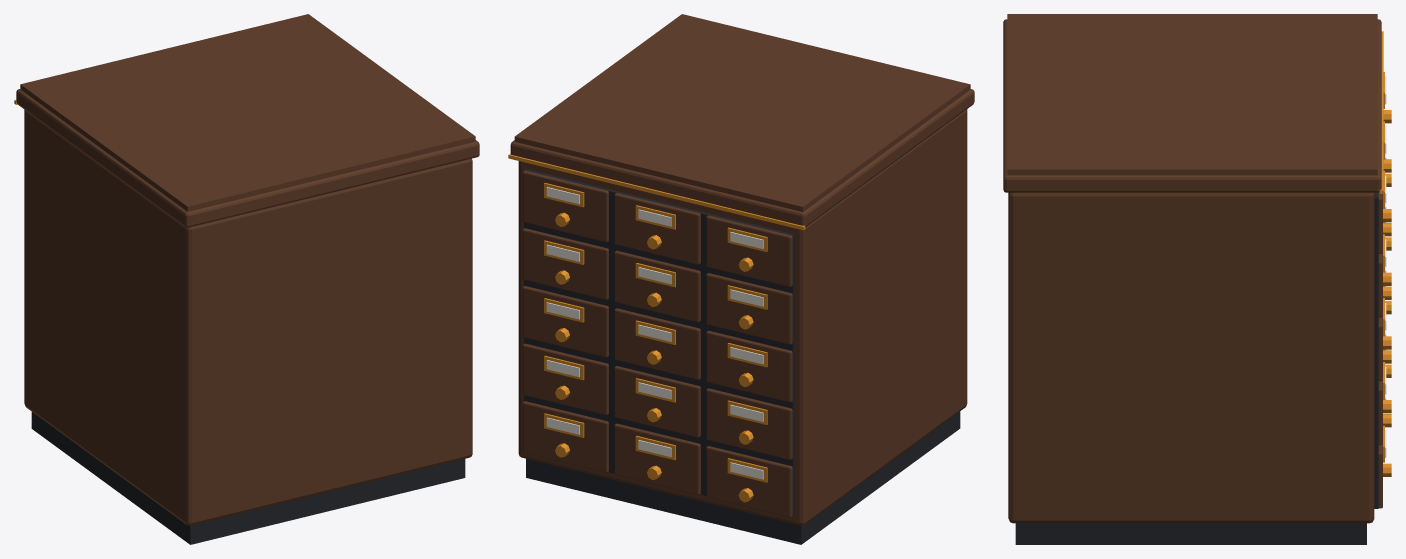
File: filing_cabinet.obj
3 renders of one model, left to right at view 1: azimuth 30°, elevation 25°; view 2: azimuth 150°, elevation 25°; view 3: azimuth 270°, elevation 25°, orthographic. The views are drawn at different scales.
Parts seen in each view (by area): view 1: filing_cabinet; view 2: filing_cabinet; view 3: filing_cabinet.
Boxes of the visible parts, x1,y1,x2,y2 form: filing_cabinet: [14, 14, 479, 544]; filing_cabinet: [508, 14, 974, 544]; filing_cabinet: [1003, 14, 1391, 544].
Size of the model in its own units: 0.9 by 1 by 0.929.
